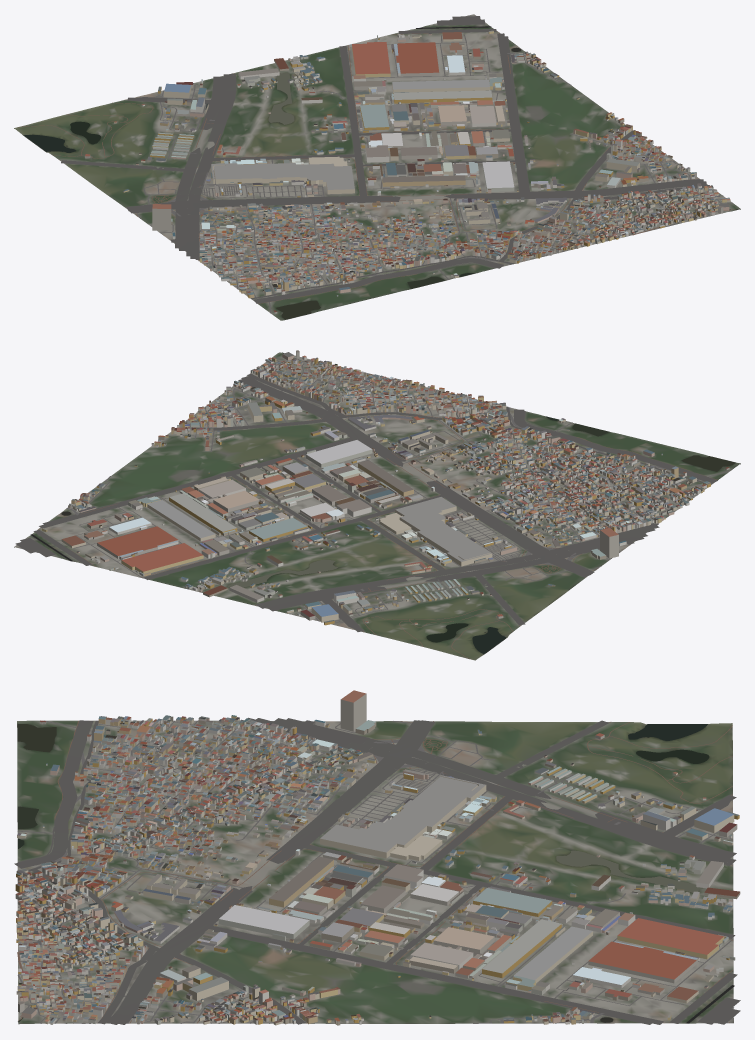
3 views of the same model, one above another, from view 1: azimuth 30°, elevation 25°; view 2: azimuth 150°, elevation 25°; view 3: azimuth 270°, elevation 25° (orthographic). The views are drawn at different scales.
Parts seen in each view (by area): view 1: ground, buildings, roads, water; view 2: buildings, ground, roads, water; view 3: buildings, ground, roads, water.
Part boxes in pixels (bbox=[...]): ground: bbox=[14, 14, 740, 320]; buildings: bbox=[85, 30, 730, 313]; roads: bbox=[18, 15, 735, 313]; water: bbox=[24, 26, 738, 319]; buildings: bbox=[42, 350, 729, 625]; ground: bbox=[14, 352, 740, 660]; roads: bbox=[15, 357, 730, 659]; water: bbox=[30, 352, 735, 653]; buildings: bbox=[15, 690, 740, 1025]; ground: bbox=[17, 720, 733, 1024]; roads: bbox=[14, 717, 740, 1024]; water: bbox=[17, 724, 734, 1023].
Bounding box in the file's own units: 1421 × 72.55 × 1424.
